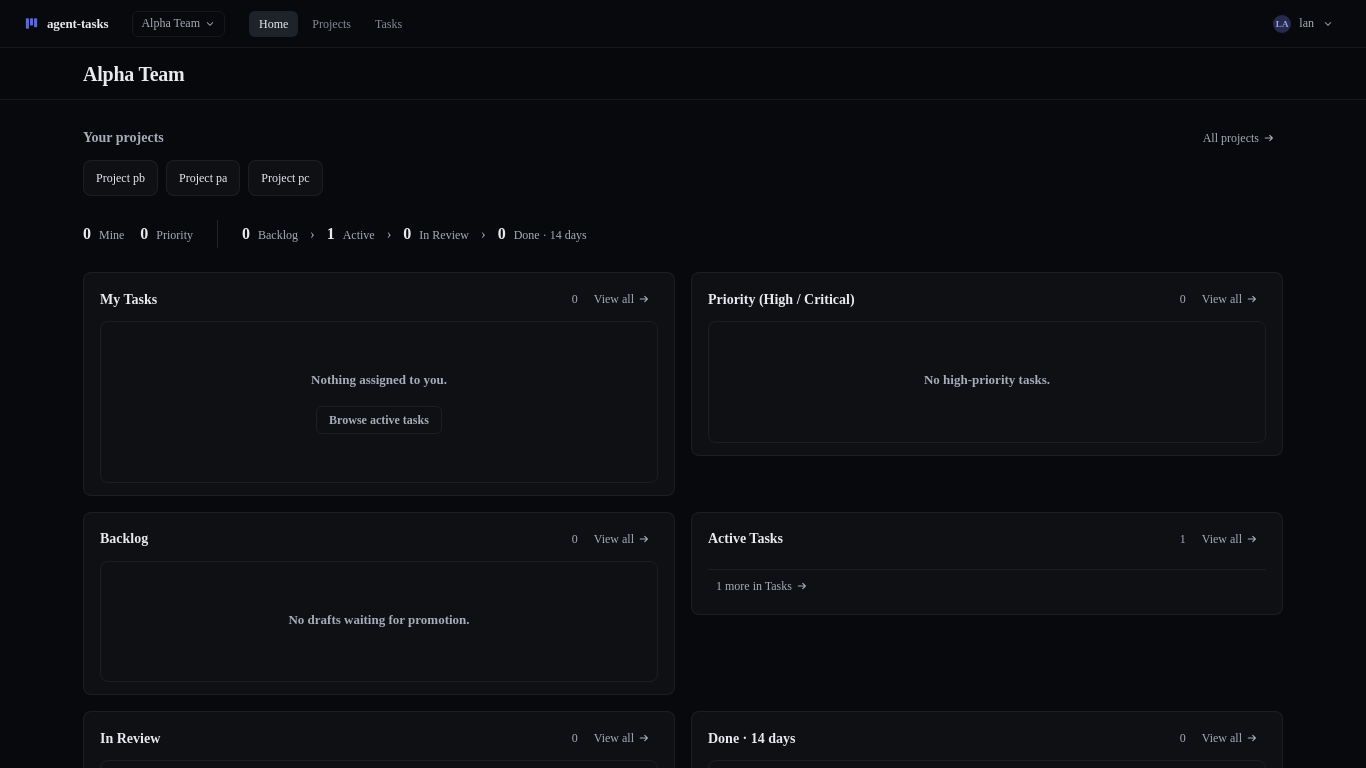
Test: /home: Your projects strip recents › re-reads the new team's recents when the header switches teams
The image size is (1366, 768).
Expected: the heading "Alpha Team" is shown, [83,62,184,86]
What coordinates should you click on to do the following:
click the button with aria-label "Switch team"
I would click on:
 (179, 24)
Its box is [132,10,225,36].
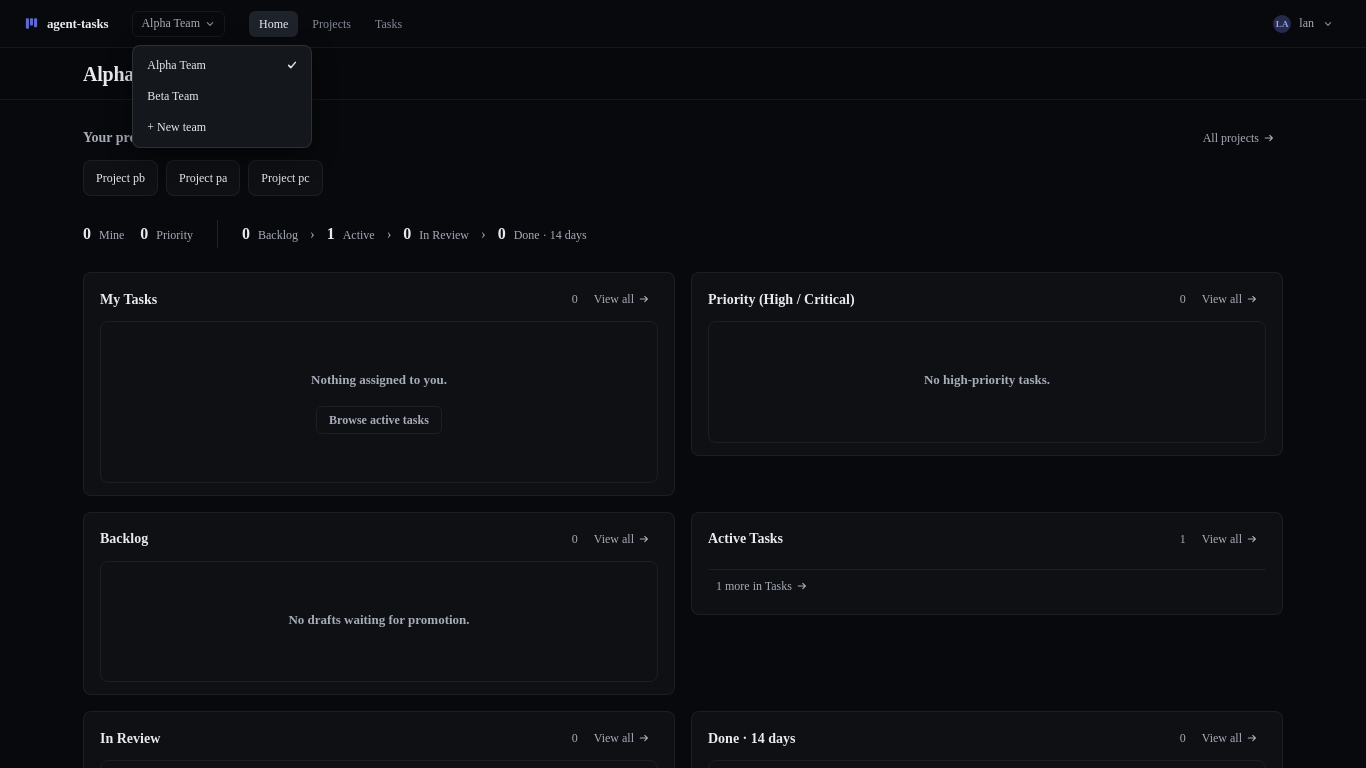
What coordinates should you click on to do the following:
click the menu item "Beta Team"
I would click on:
 (222, 96)
Its box is [137,80,307,112].
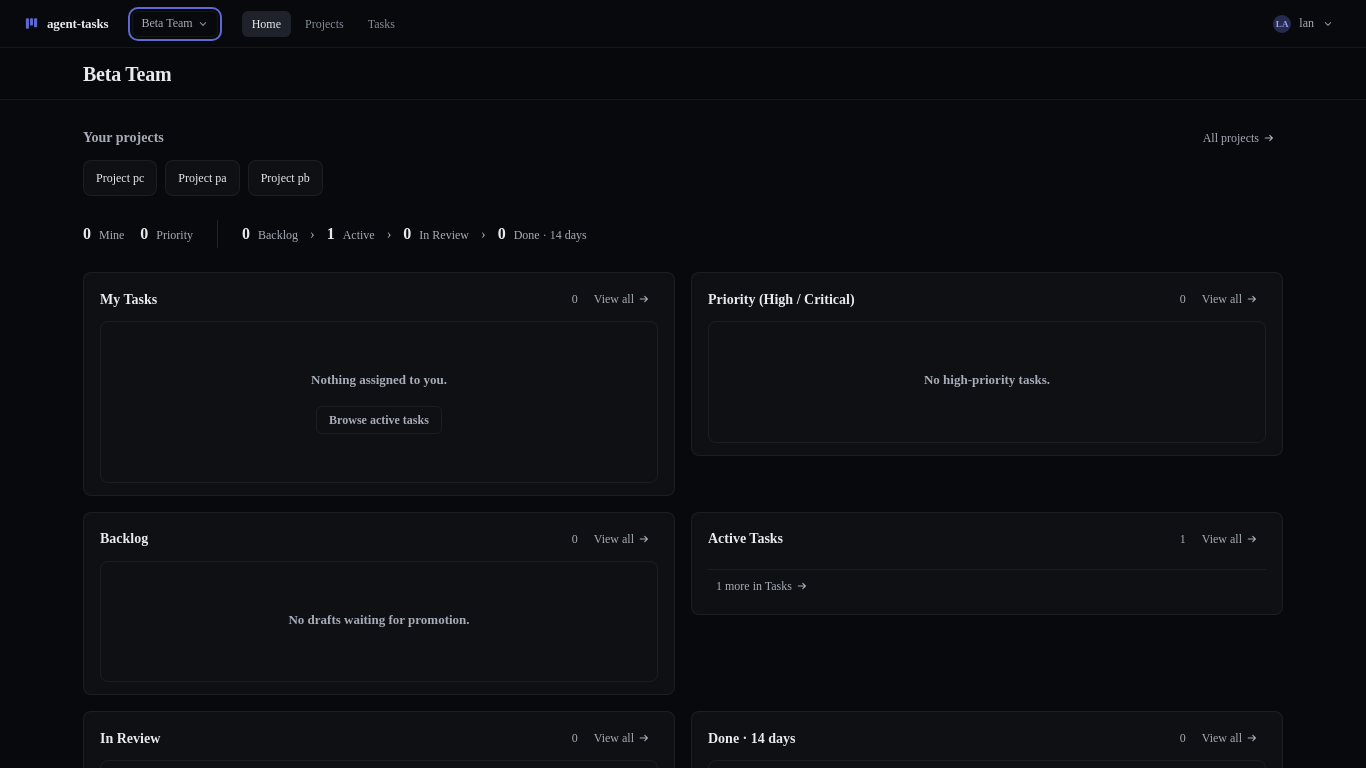
Now the heading "Beta Team" is shown, box [83,62,171,86]
